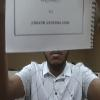notebook: (4, 0, 96, 53)
